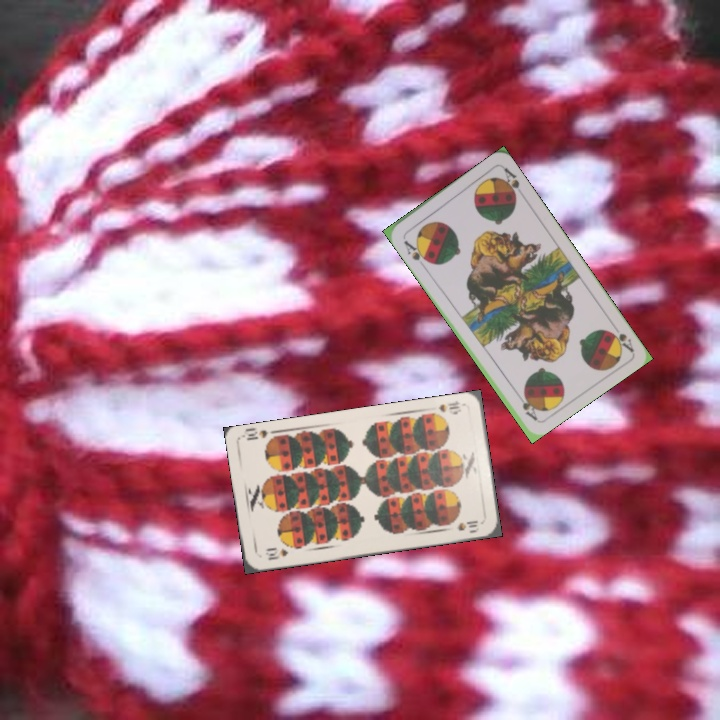S10: (427, 397, 463, 419), (261, 545, 291, 563)
SA: (605, 318, 636, 354), (399, 236, 432, 265)
